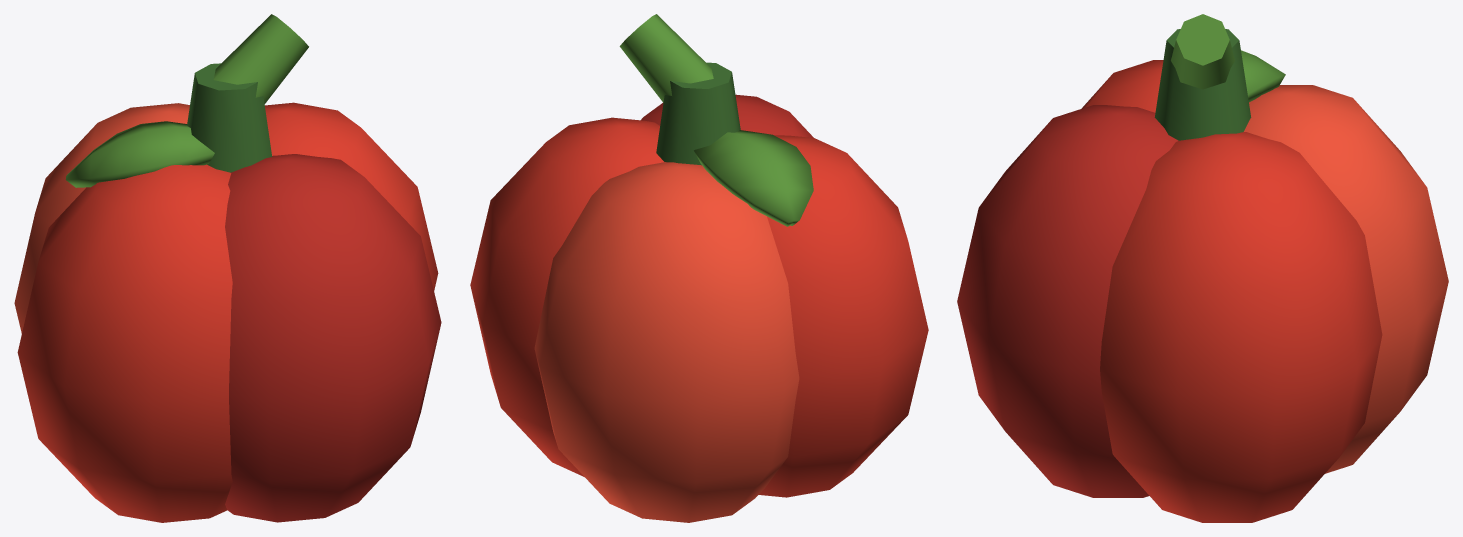
Rendered from Pepper_Loose.fbx.
3 renders of one model, left to right at view 1: azimuth 30°, elevation 25°; view 2: azimuth 150°, elevation 25°; view 3: azimuth 270°, elevation 25°, orthographic. The views are drawn at different scales.
Visible parts, largest first — view 1: Body; view 2: Body; view 3: Body.
Boxes of the visible parts, <box> form: Body: <box>14,14,441,522</box>; Body: <box>470,14,928,522</box>; Body: <box>957,14,1448,522</box>.
Bounding box in the file's own units: 0.2539 × 0.282 × 0.2564.
